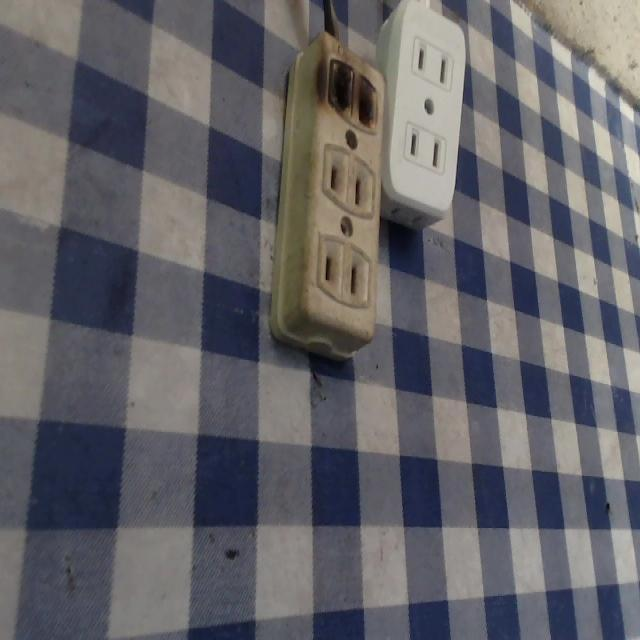-: (317, 46, 388, 134)
